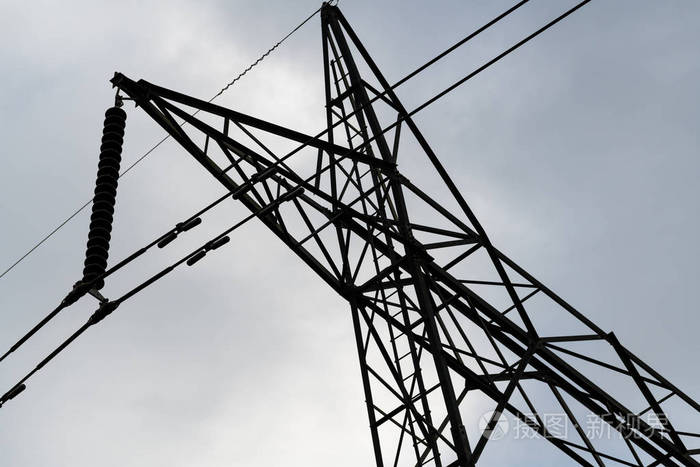insulator: (80, 102, 127, 284)
